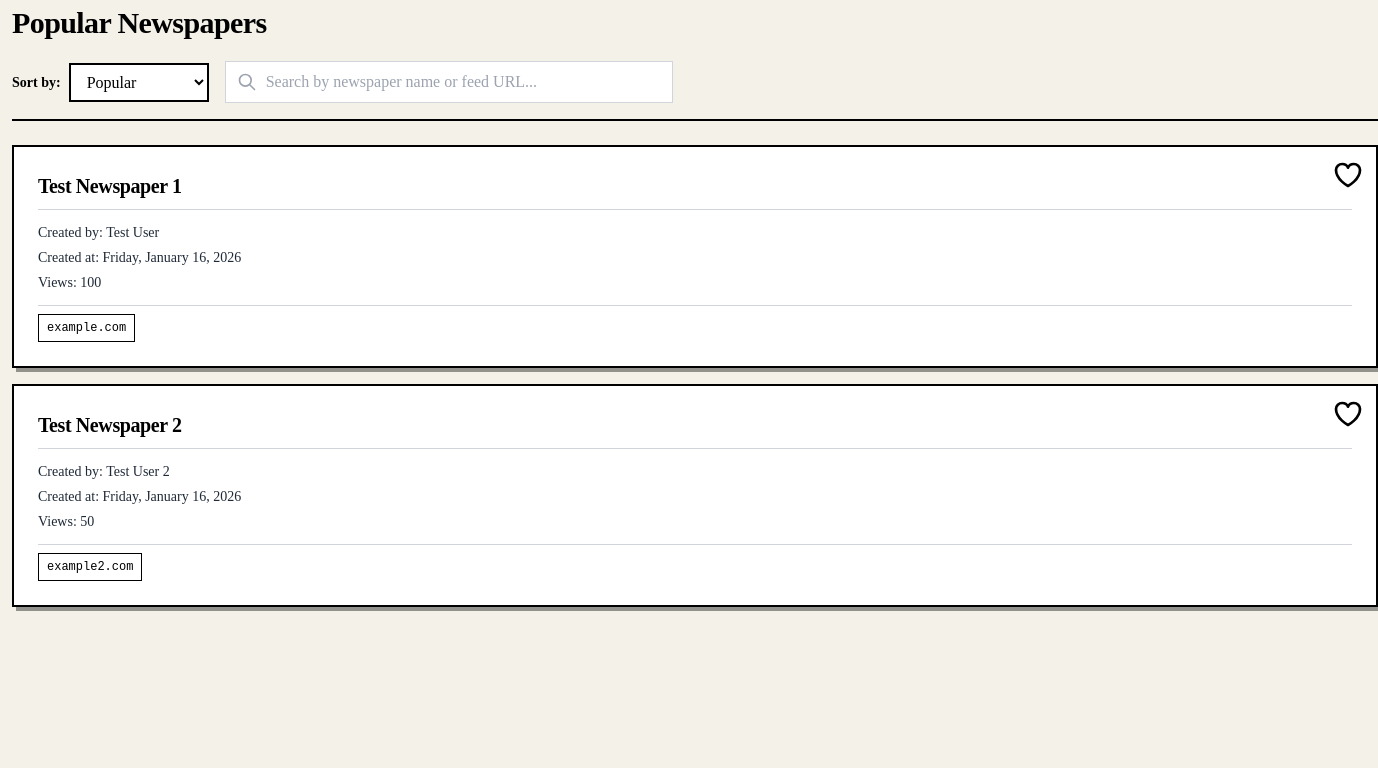
it: PopularNewspapers Integration › should toggle subscription state across multiple cards
Expected: the heading "Test Newspaper 1" is shown, [38, 171, 1352, 210]
# Click first button to subscribe
Click the button named "subscribe" in the row of "Test Newspaper 1".
click(1348, 175)  # box [1326, 153, 1370, 197]
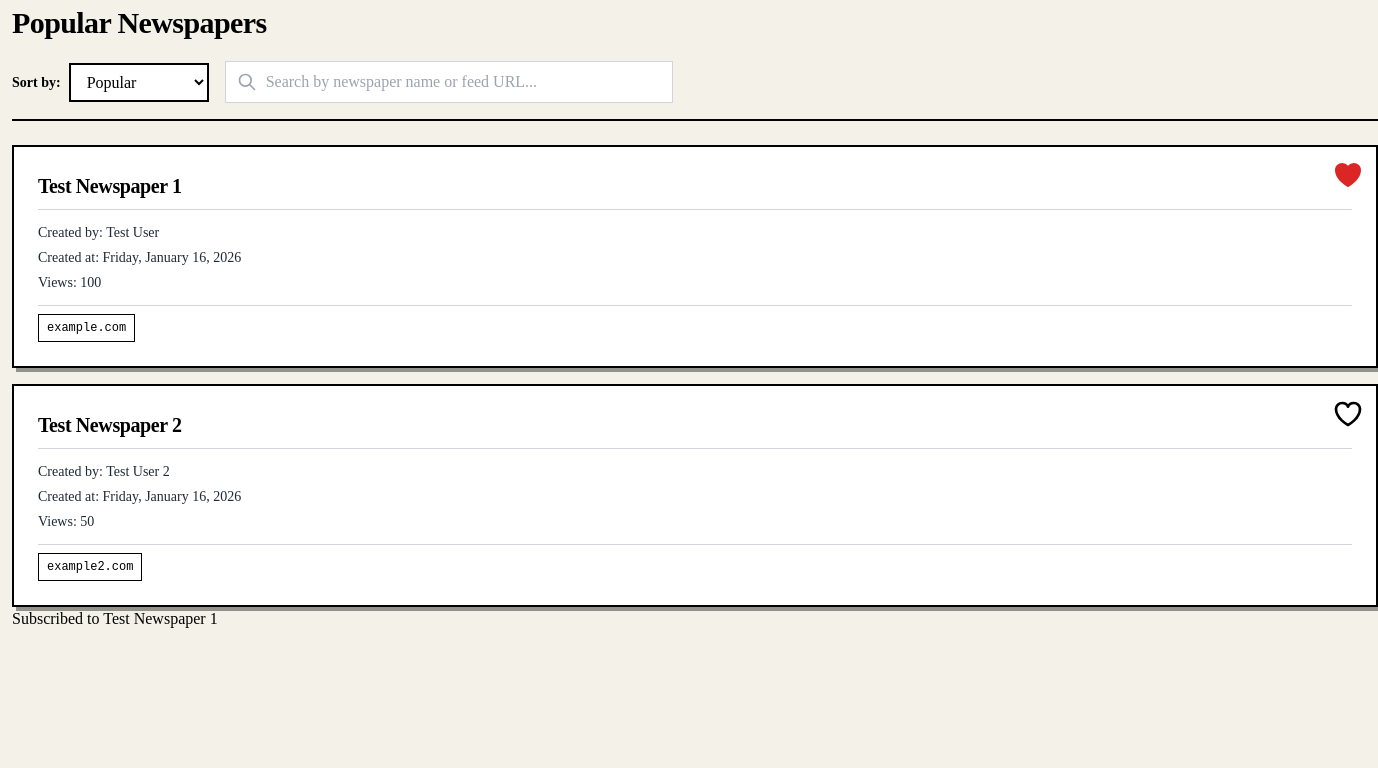
Expected: the button named "subscribed" is shown, [1326, 153, 1370, 197]
